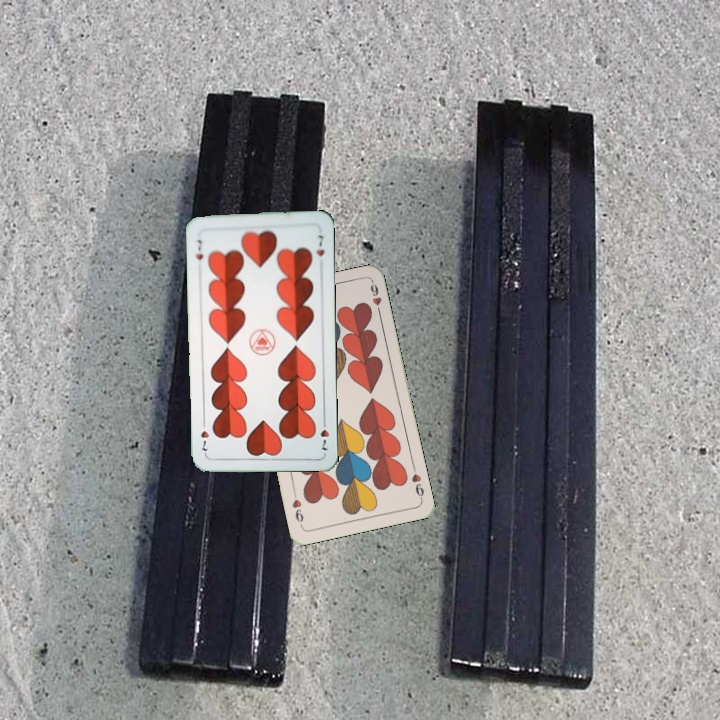H7: (316, 414, 332, 453), (192, 235, 206, 262)
H9: (407, 463, 427, 503)
